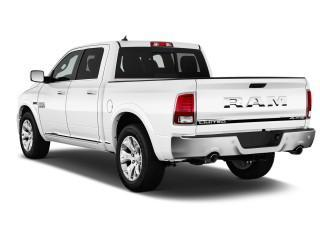ram: (218, 92, 293, 111)
